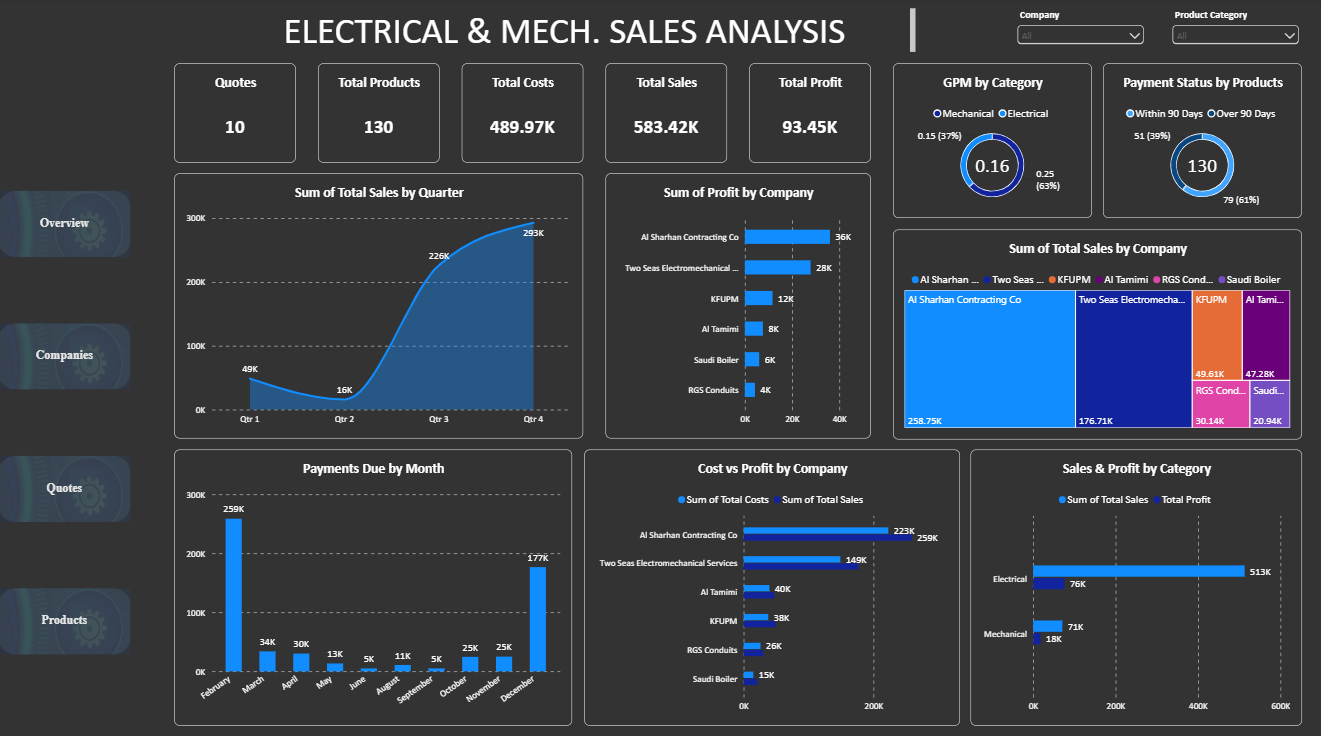

Layout of this report page (visuals, bound fields, positions):
{"tool":"powerbi","page":{"name":"Overview","canvas":[1920,1080],"ordinal":0},"visuals":[{"type":"actionButton","box":[0,280.4,192,96],"z":0},{"type":"actionButton","box":[0,664.4,192,96],"z":1000},{"type":"actionButton","box":[0,472.4,192,96],"z":2000},{"type":"actionButton","box":[0,856.4,192,96],"z":3000},{"type":"card","title":"Quotes","fields":{"Values":["SalesData.Total Quotes"]},"box":[256,96,176,144],"z":4000},{"type":"card","title":"Total Costs","fields":{"Values":["SalesData.Sum of Total Costs"]},"box":[672,96,176,144],"z":5000},{"type":"card","title":"Total Products","fields":{"Values":["SalesData.Total Products"]},"box":[464,96,176,144],"z":6000},{"type":"card","title":"Total Sales","fields":{"Values":["SalesData.Sum of Total Sales"]},"box":[880,96,176,144],"z":7000},{"type":"card","title":"Total Profit","fields":{"Values":["SalesData.Total Profit"]},"box":[1088,96,176,144],"z":8000},{"type":"donutChart","title":"GPM by Category","fields":{"Category":["SalesData.Product Category"],"Y":["SalesData.Total GPM %"]},"box":[1296,96,288,224],"z":12000},{"type":"donutChart","title":"Payment Status by Products","fields":{"Category":["SalesData.Payment Status"],"Y":["Sum(SalesData.No. of Products)"]},"box":[1600,96,288,224],"z":13000},{"type":"areaChart","fields":{"Category":["SalesData.Deal Closed Date.Variation.Date Hierarchy.Quarter"],"Y":["SalesData.Sum of Total Sales"]},"box":[256,256,592,384],"z":14000},{"type":"barChart","fields":{"Category":["SalesData.Company"],"Y":["Sum(SalesData.Profit)"]},"box":[880,256,384,384],"z":15000},{"type":"treemap","fields":{"Group":["SalesData.Company"],"Values":["SalesData.Sum of Total Sales"]},"box":[1296,336,592,304],"z":16000},{"type":"clusteredColumnChart","title":"Payments Due by Month","fields":{"Category":["SalesData.Payment Due Date.Variation.Date Hierarchy.Month"],"Y":["SalesData.Sum of Total Sales"]},"box":[256,656,576,400],"z":17000},{"type":"clusteredBarChart","title":"Cost vs Profit by Company","fields":{"Category":["SalesData.Company"],"Y":["SalesData.Sum of Total Costs","SalesData.Sum of Total Sales"]},"box":[848,656,544,400],"z":18000},{"type":"clusteredBarChart","title":"Sales & Profit by Category","fields":{"Category":["SalesData.Product Category"],"Y":["SalesData.Sum of Total Sales","SalesData.Total Profit"]},"box":[1408,656,480,400],"z":19000},{"type":"textbox","box":[304,16,864,64],"z":19001},{"type":"slicer","fields":{"Values":["SalesData.Company"]},"box":[1472,16,192,64],"z":19002},{"type":"slicer","fields":{"Values":["SalesData.Product Category"]},"box":[1696,16,192,64],"z":19003}]}

Visuals, with their boxes in screenshot pixels (x1, y1, x2, y2), scaled from the page's 1920x1080 canvas onto the 1321x736 screenshot:
actionButton: select_region(0, 191, 132, 257)
actionButton: select_region(0, 453, 132, 518)
actionButton: select_region(0, 322, 132, 387)
actionButton: select_region(0, 584, 132, 649)
"Quotes" card: select_region(176, 65, 297, 164)
"Total Costs" card: select_region(462, 65, 583, 164)
"Total Products" card: select_region(319, 65, 440, 164)
"Total Sales" card: select_region(605, 65, 727, 164)
"Total Profit" card: select_region(749, 65, 870, 164)
"GPM by Category" donutChart: select_region(892, 65, 1090, 218)
"Payment Status by Products" donutChart: select_region(1101, 65, 1299, 218)
areaChart - SalesData.Deal Closed Date.Variation.Date Hierarchy.Quarter x SalesData.Sum of Total Sales: select_region(176, 174, 583, 436)
barChart - SalesData.Company x Sum(SalesData.Profit): select_region(605, 174, 870, 436)
treemap - SalesData.Company x SalesData.Sum of Total Sales: select_region(892, 229, 1299, 436)
"Payments Due by Month" clusteredColumnChart: select_region(176, 447, 572, 720)
"Cost vs Profit by Company" clusteredBarChart: select_region(583, 447, 958, 720)
"Sales & Profit by Category" clusteredBarChart: select_region(969, 447, 1299, 720)
textbox: select_region(209, 11, 804, 55)
slicer - SalesData.Company: select_region(1013, 11, 1145, 55)
slicer - SalesData.Product Category: select_region(1167, 11, 1299, 55)
